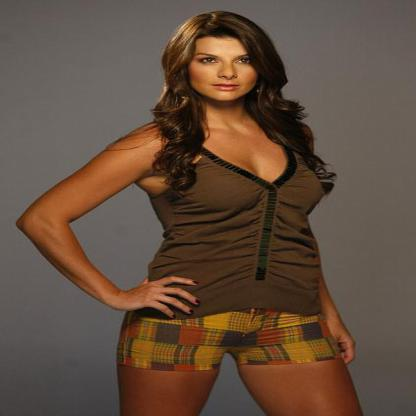long-hair: (142, 99, 312, 127)
